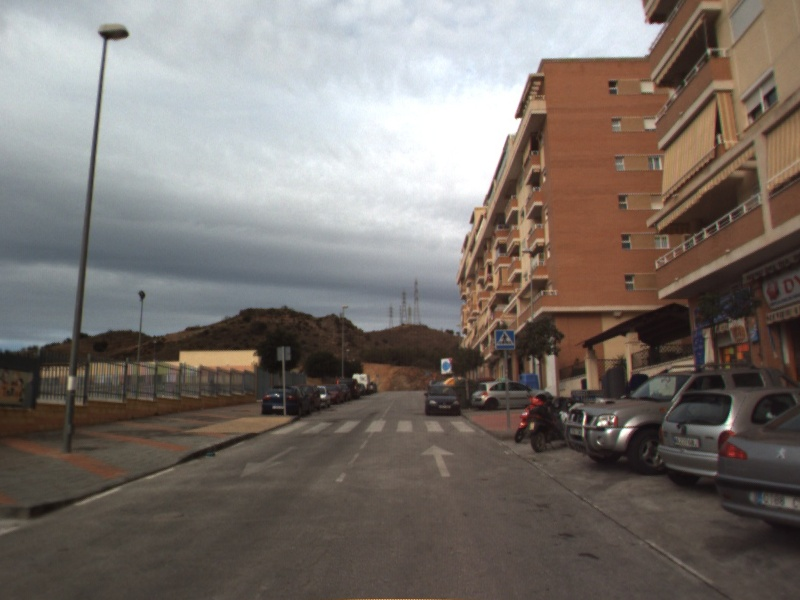STRAIGHT: (418, 442, 457, 479)
